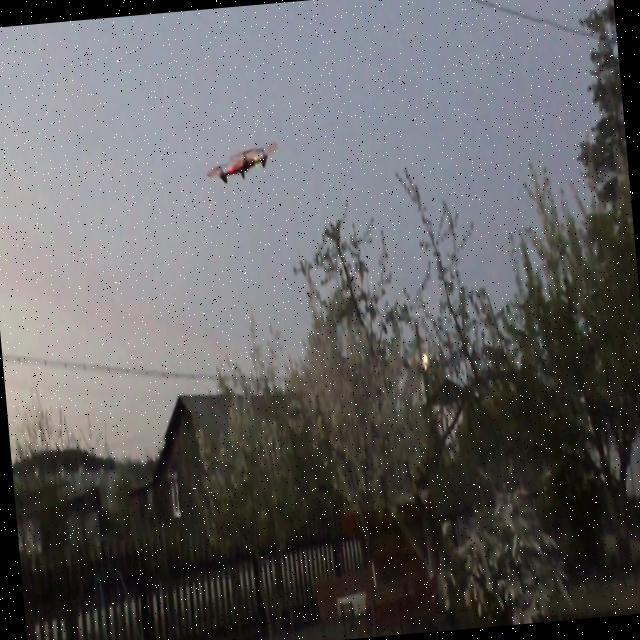Drons: (200, 138, 282, 188)
